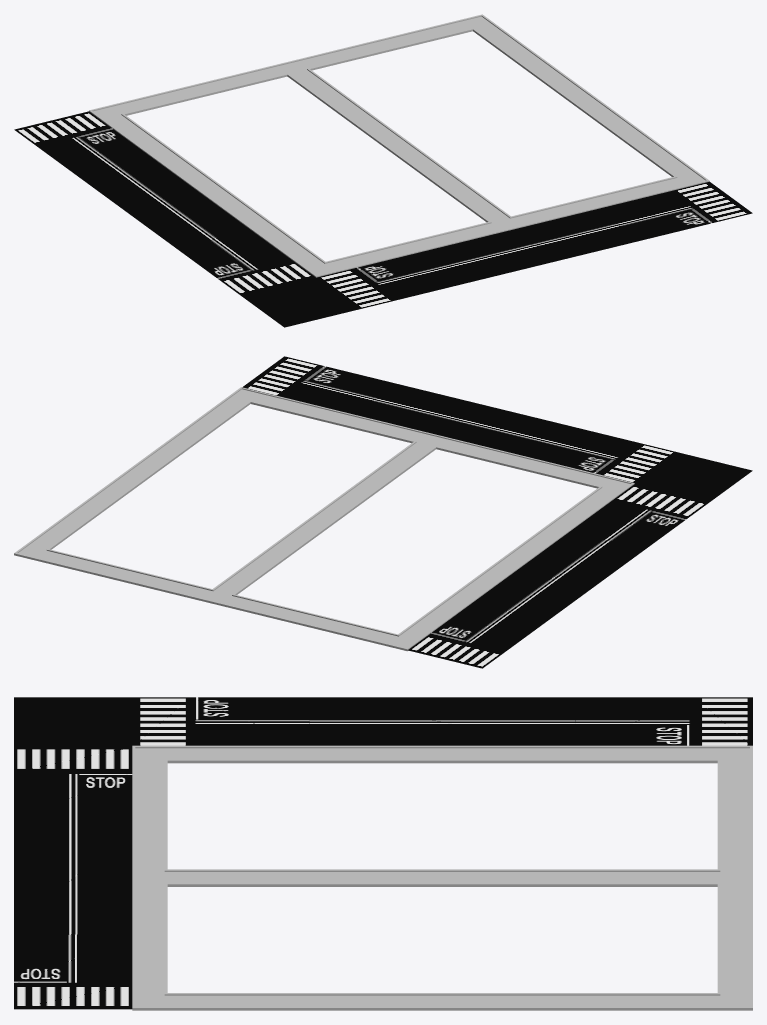
The model's file is Street_02.fbx.
3 views of the same model, one above another, from view 1: azimuth 30°, elevation 25°; view 2: azimuth 150°, elevation 25°; view 3: azimuth 270°, elevation 25° (orthographic). The views are drawn at different scales.
Parts seen in each view (by area): view 1: road, sidewalk; view 2: road, sidewalk; view 3: road, sidewalk.
Part boxes in pixels (left/top/right/bottom): road: left=14, top=111, right=752, bottom=327; sidewalk: left=89, top=14, right=709, bottom=277; road: left=242, top=356, right=752, bottom=668; sidewalk: left=14, top=387, right=634, bottom=651; road: left=14, top=697, right=752, bottom=1009; sidewalk: left=132, top=745, right=752, bottom=1010.
Bounding box in the file's own units: 5000 × 20 × 5000.
